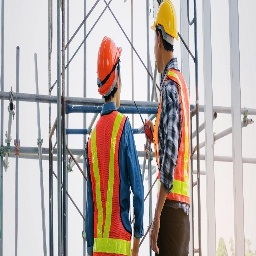helmet: (96, 35, 124, 99), (148, 3, 183, 41)
person: (86, 34, 144, 256), (151, 3, 194, 256)
vest: (89, 113, 142, 256), (152, 68, 196, 213)
